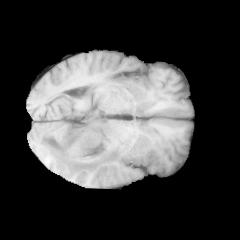glioma: (38, 107, 121, 176)
